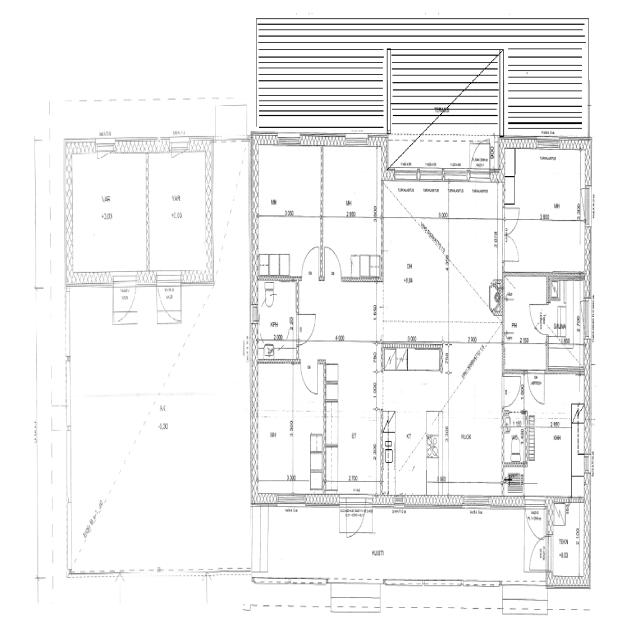door: (112, 271, 140, 324), (156, 271, 182, 324), (345, 497, 367, 539), (295, 308, 318, 346), (469, 137, 490, 178), (298, 357, 320, 396), (300, 242, 321, 280), (525, 498, 546, 536), (324, 242, 344, 280), (501, 372, 522, 407), (504, 221, 520, 264), (530, 533, 548, 570), (528, 302, 548, 335), (527, 371, 545, 405), (566, 336, 580, 362)
window: (276, 491, 307, 511), (168, 133, 190, 157), (95, 137, 117, 159), (417, 164, 443, 182), (462, 493, 491, 509), (583, 182, 593, 227), (394, 165, 420, 182), (446, 167, 470, 184), (278, 134, 302, 150), (345, 136, 368, 151), (539, 139, 556, 150)
zone: (66, 152, 150, 280), (379, 345, 447, 500), (252, 358, 324, 502), (254, 143, 323, 280), (381, 200, 448, 338), (146, 148, 210, 278), (326, 344, 379, 499), (322, 144, 379, 279), (528, 362, 582, 498), (447, 209, 501, 316), (510, 150, 588, 222), (444, 414, 504, 497), (503, 272, 547, 376), (253, 278, 300, 354), (547, 500, 585, 586), (547, 275, 586, 343), (388, 174, 422, 217), (504, 415, 527, 460)
